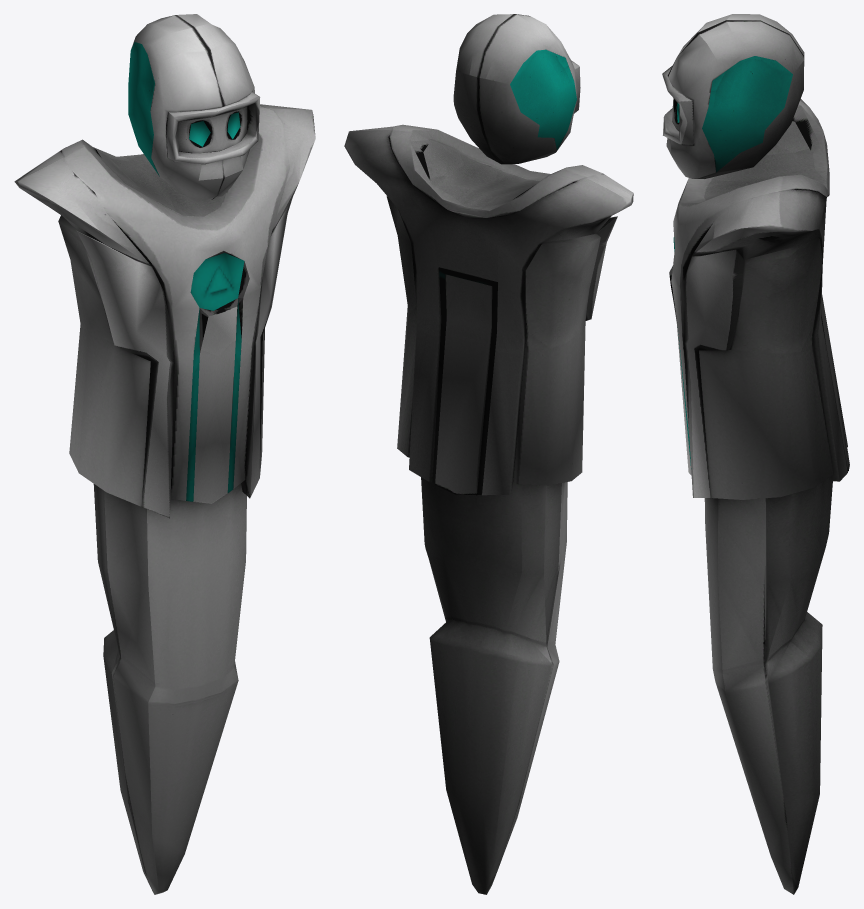
Rendered from S-Series-M01ss.obj.
3 renders of one model, left to right at view 1: azimuth 30°, elevation 25°; view 2: azimuth 150°, elevation 25°; view 3: azimuth 270°, elevation 25°, orthographic. The views are drawn at different scales.
Parts seen in each view (by area): view 1: Body, Head; view 2: Body, Head; view 3: Body, Head.
Boxes of the visible parts, left/top/right/bottom form: Body: left=14, top=104, right=315, bottom=894; Head: left=128, top=14, right=260, bottom=200; Body: left=344, top=124, right=633, bottom=894; Head: left=453, top=14, right=580, bottom=164; Body: left=669, top=99, right=849, bottom=894; Head: left=662, top=14, right=804, bottom=178.
Bounding box in the file's own units: 0.5252 × 1.52 × 0.2969.
Materials: 2 (2 with a texture image).
